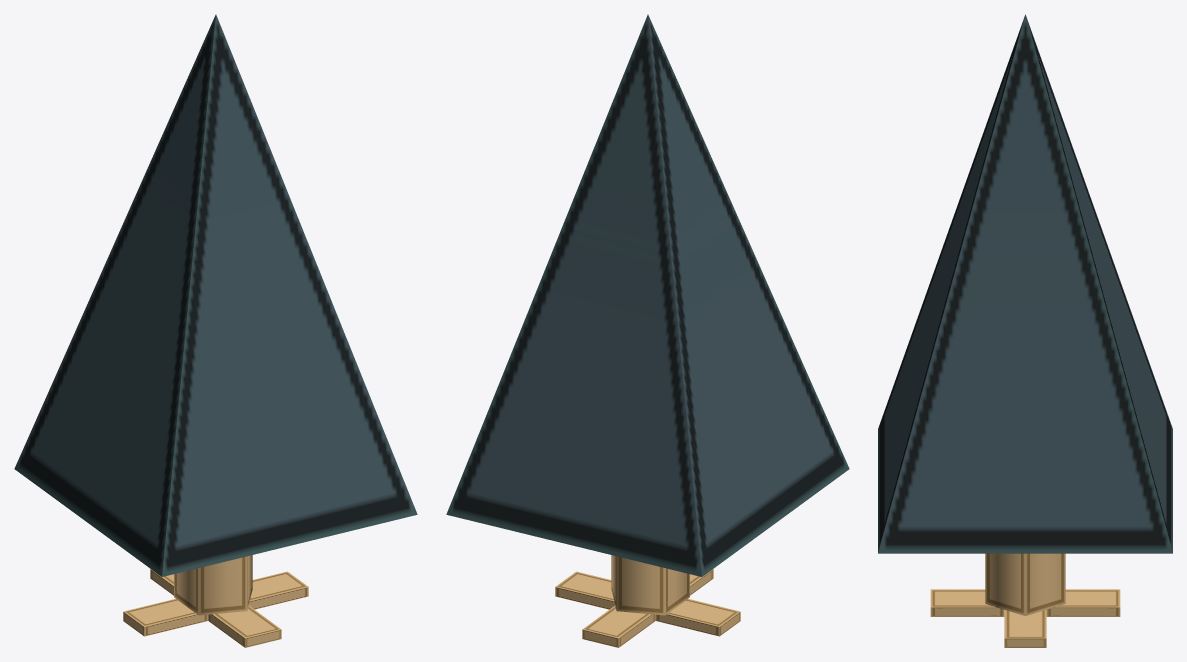
File: Tree005.FBX
The picture shows the model from 3 angles, left to right: view 1: azimuth 30°, elevation 25°; view 2: azimuth 150°, elevation 25°; view 3: azimuth 270°, elevation 25°; orthographic projection.
Visible parts, largest first — view 1: tree005; view 2: tree005; view 3: tree005.
Boxes of the visible parts, x1,y1,x2,y2 form: tree005: [14, 14, 417, 647]; tree005: [446, 14, 849, 647]; tree005: [878, 14, 1172, 647].
Bounding box in the file's own units: 140 × 311 × 140.
Materials: 1 (1 with a texture image).
